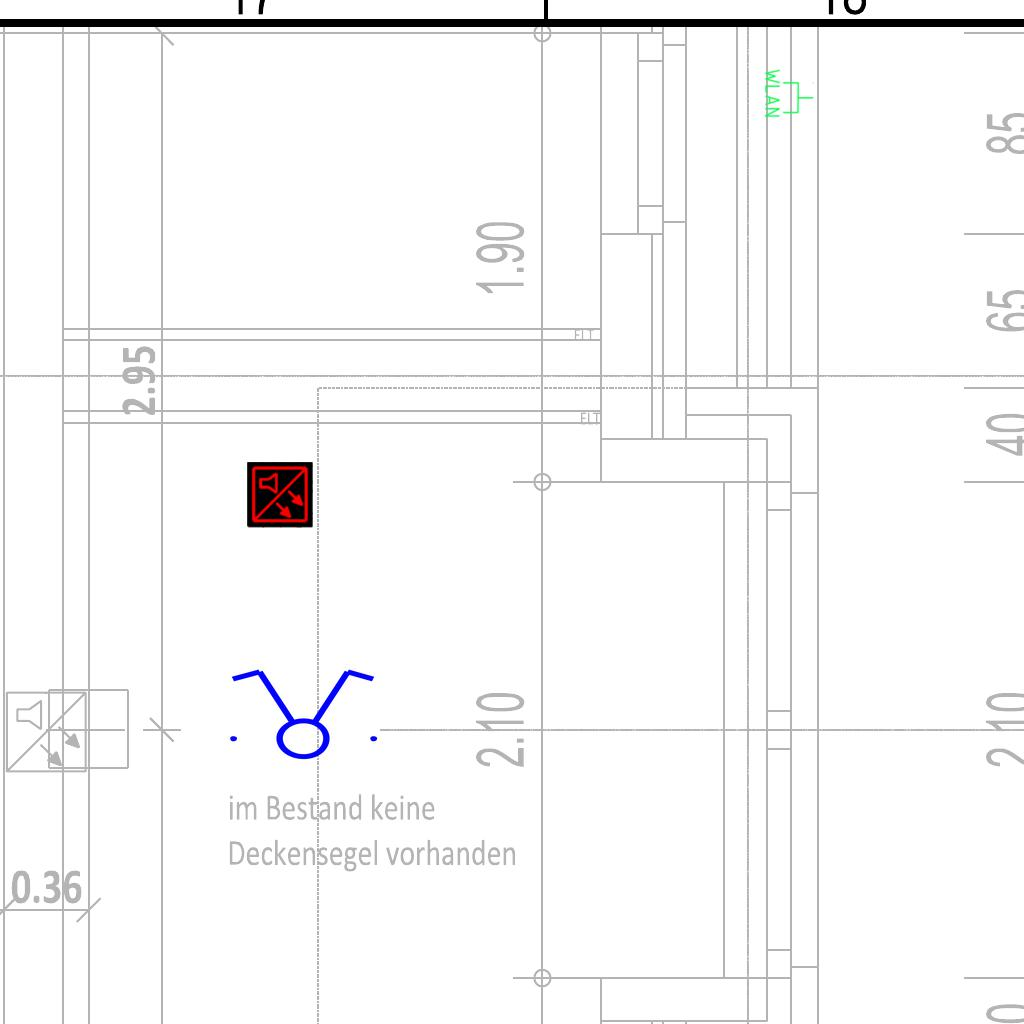OKW_Multisensormelder_(Kombination_optischer_Rauch-Kahlenmonoxid_Waerme-Melder): (247, 462, 313, 528)
Serienschalter: (218, 665, 386, 761)
WLAN: (763, 67, 815, 119)
